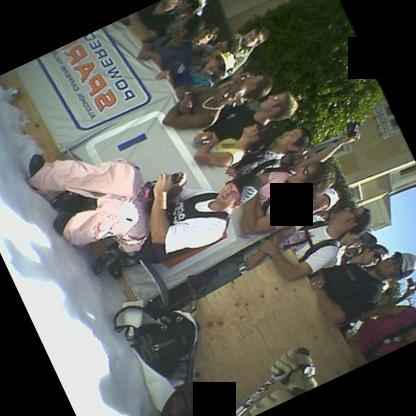backpack: (129, 310, 196, 378), (295, 221, 340, 263)
